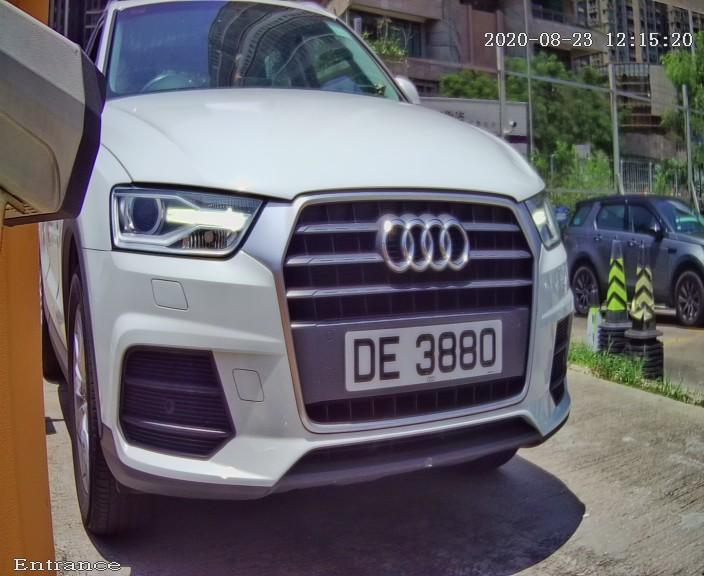License Plate: (334, 314, 513, 399)
